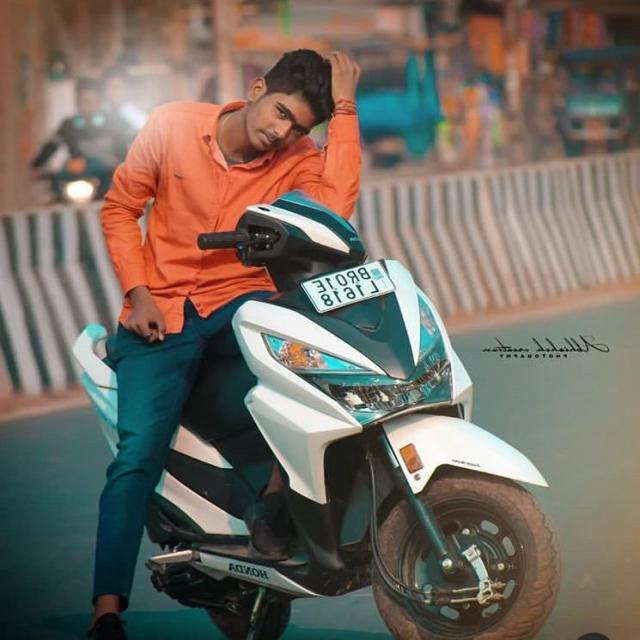Not Wearing Helmet: (218, 12, 378, 156)
